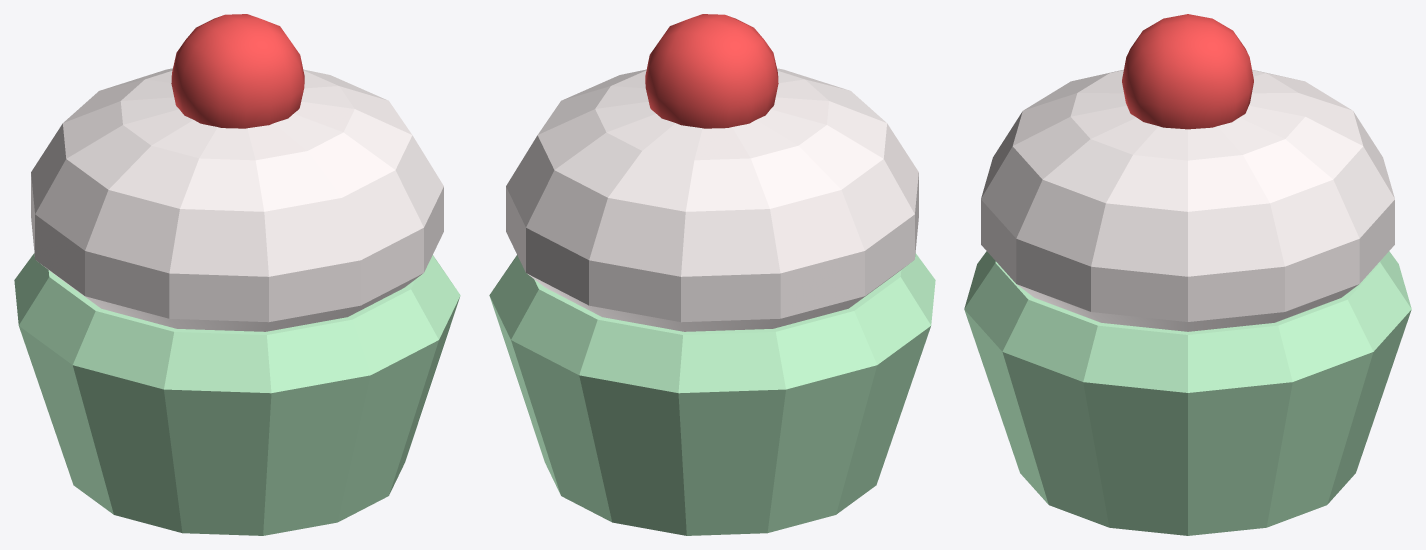
Rendered from Cupcake_green.fbx.
3 views of the same model, side by side, from view 1: azimuth 30°, elevation 25°; view 2: azimuth 150°, elevation 25°; view 3: azimuth 270°, elevation 25° (orthographic).
Visible parts, largest first — view 1: polySurface744; view 2: polySurface744; view 3: polySurface744.
Part boxes in pixels (x1,y1,x2,y2): polySurface744: [14, 14, 460, 535]; polySurface744: [489, 14, 935, 535]; polySurface744: [964, 14, 1411, 535].
Size of the model in its own units: 10.45 by 11.53 by 10.52.
